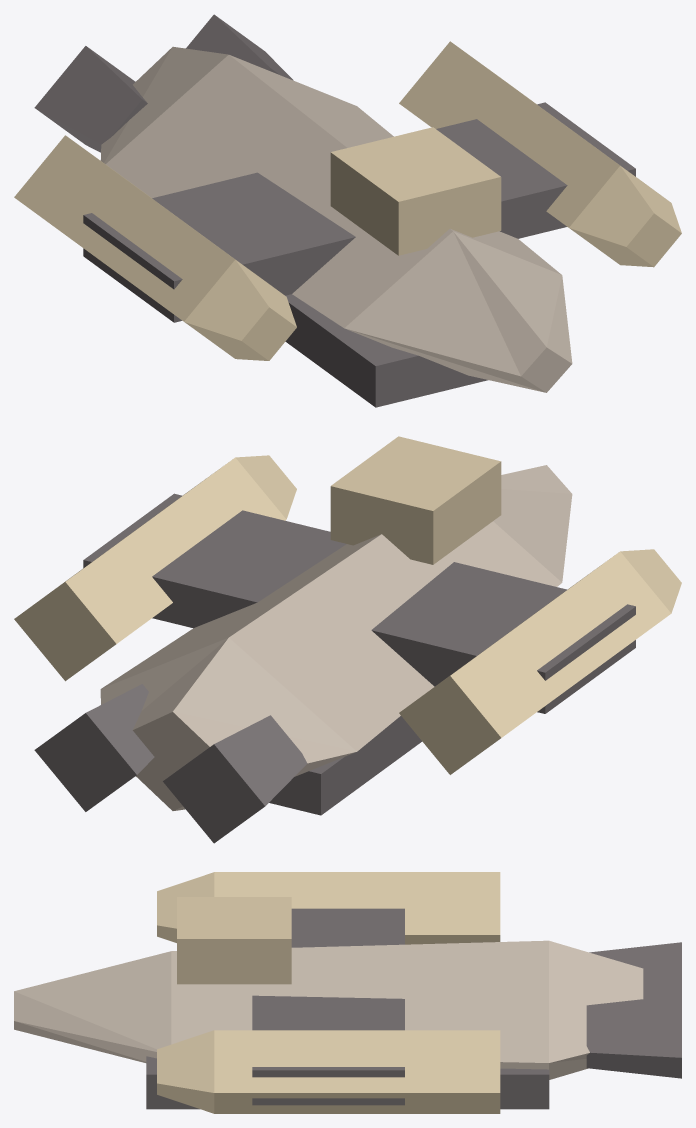
3 renders of one model, top to bottom at view 1: azimuth 30°, elevation 25°; view 2: azimuth 150°, elevation 25°; view 3: azimuth 270°, elevation 25°, orthographic. The views are drawn at different scales.
Bounding box in the file's own units: 5.56 × 2.1 × 7.84.
